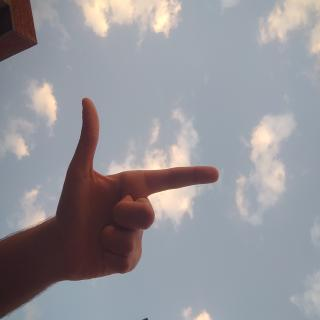LAAM: (68, 128, 218, 320)
